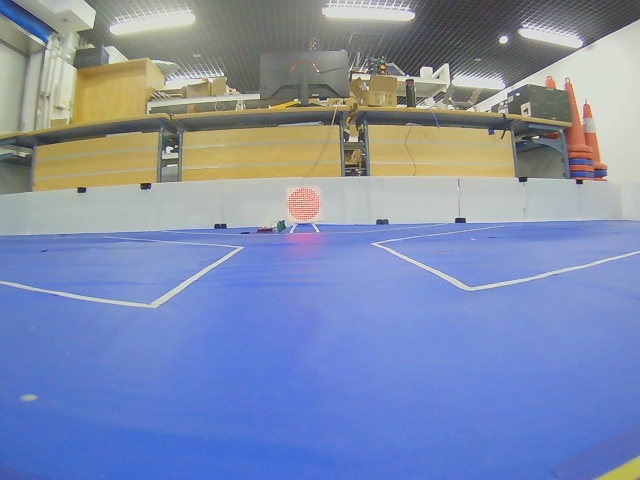red: (287, 187, 320, 223)
